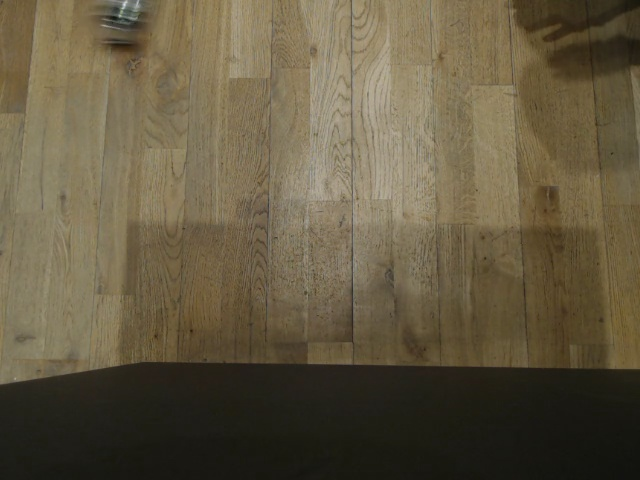beer: (95, 0, 142, 36)
